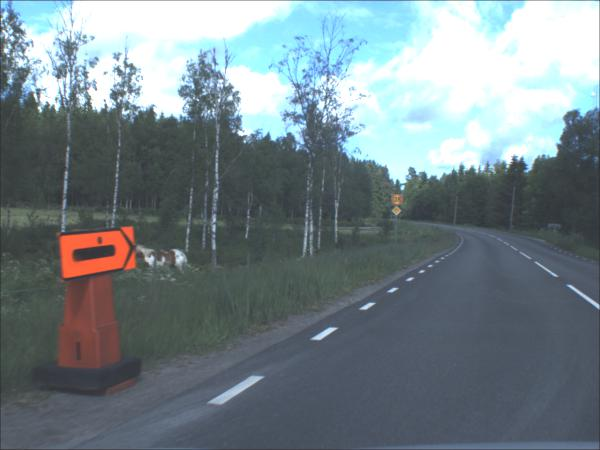80_SIGN: (391, 195, 404, 207)
PRIORITY_ROAD: (391, 207, 402, 217)
